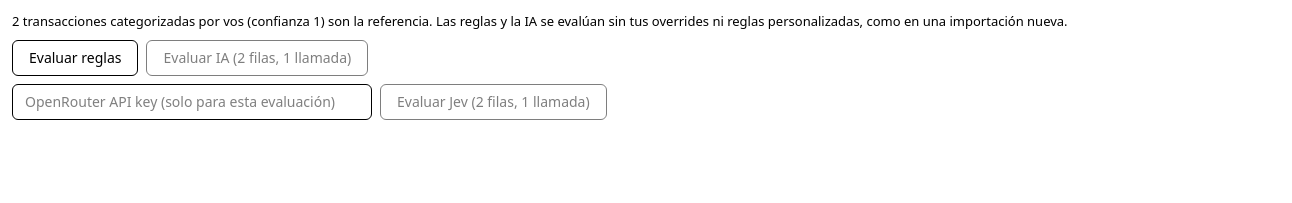
Test: CategorizerEval — Jev › scores Jev on the same rows once an OpenRouter key is typed
This screenshot has width=1292, height=203.
Check: the button "Evaluar Jev (2 filas, 1 llamada)" is disabled, box [380, 84, 607, 120]
In the password field labelled "OpenRouter API key (solo para esta evaluación)": x=192, y=102 [12, 84, 372, 120], type "or-test-key"
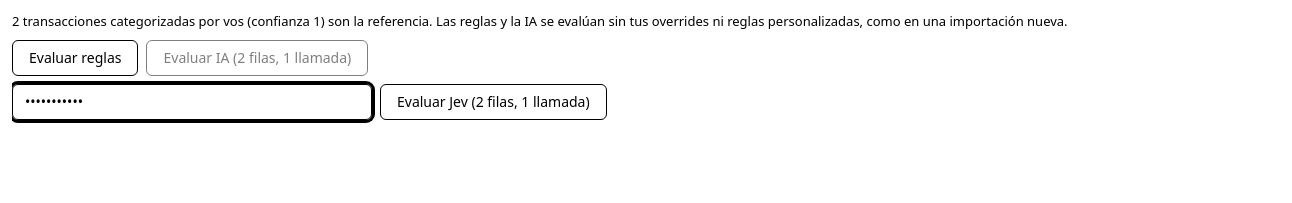
Click the button "Evaluar Jev (2 filas, 1 llamada)": x=493, y=102 [380, 84, 607, 120]
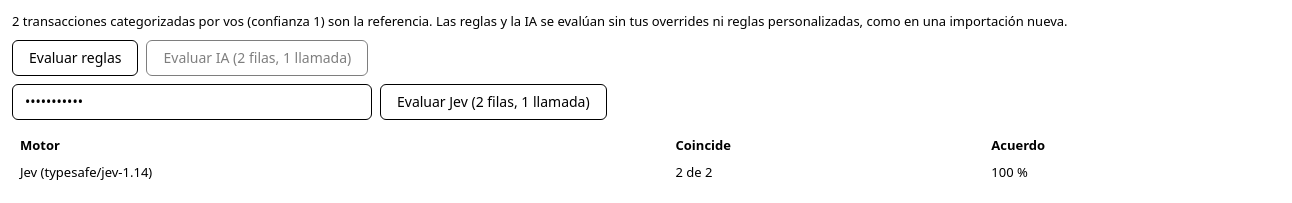
Check: the row with test id "eval-jev" shows "2 de 2", box [12, 159, 1291, 186]
Check: the row with test id "eval-jev" shows "100 %", box [991, 163, 1028, 181]
